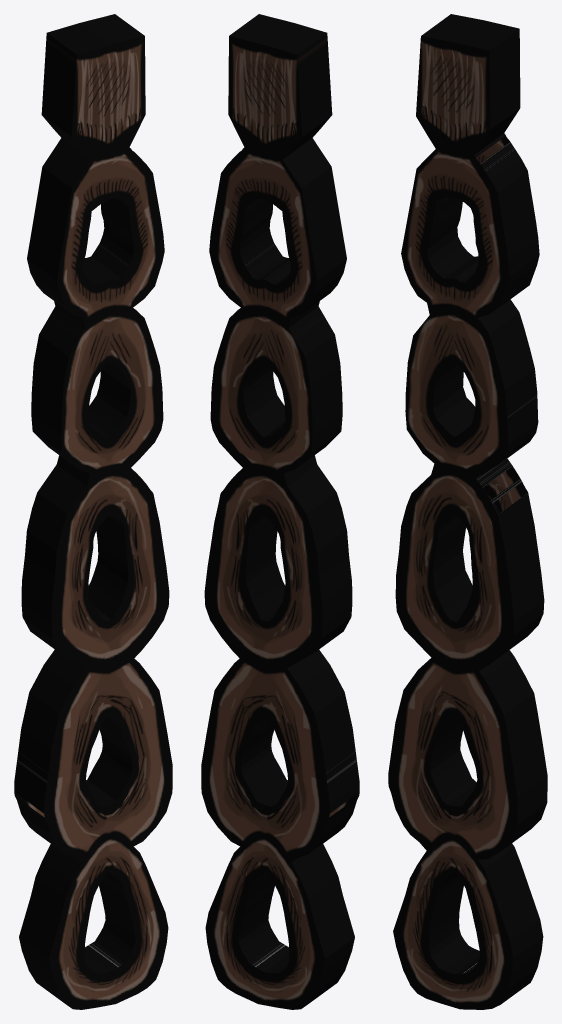
The model's file is Lamp_Ceiling_front.fbx.
3 renders of one model, left to right at view 1: azimuth 30°, elevation 25°; view 2: azimuth 150°, elevation 25°; view 3: azimuth 330°, elevation 25°, orthographic.
Visible parts, largest first — view 1: Lamp_Ceiling_front; view 2: Lamp_Ceiling_front; view 3: Lamp_Ceiling_front.
Part boxes in pixels (bbox=[...]): Lamp_Ceiling_front: bbox=[14, 14, 172, 1009]; Lamp_Ceiling_front: bbox=[201, 14, 359, 1009]; Lamp_Ceiling_front: bbox=[388, 14, 547, 1009].
Size of the model in its own units: 13.63 by 97.3 by 5.49.
1 material, 1 textured.
